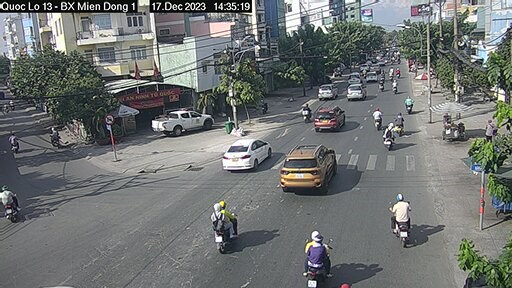car: (281, 143, 336, 189), (222, 137, 273, 172), (154, 109, 215, 135), (315, 106, 347, 130), (318, 82, 339, 101), (344, 85, 367, 100)
motorbike: (205, 203, 243, 250), (308, 233, 336, 288), (394, 184, 416, 247), (383, 125, 397, 149), (373, 113, 386, 128)
